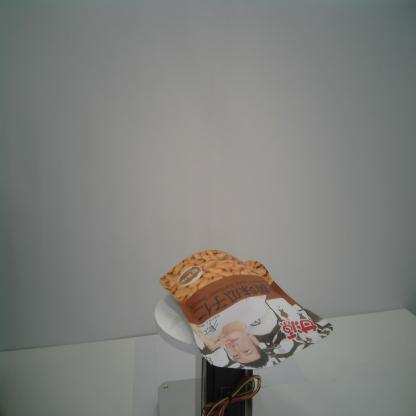Dried Fruit: (159, 249, 333, 370)
